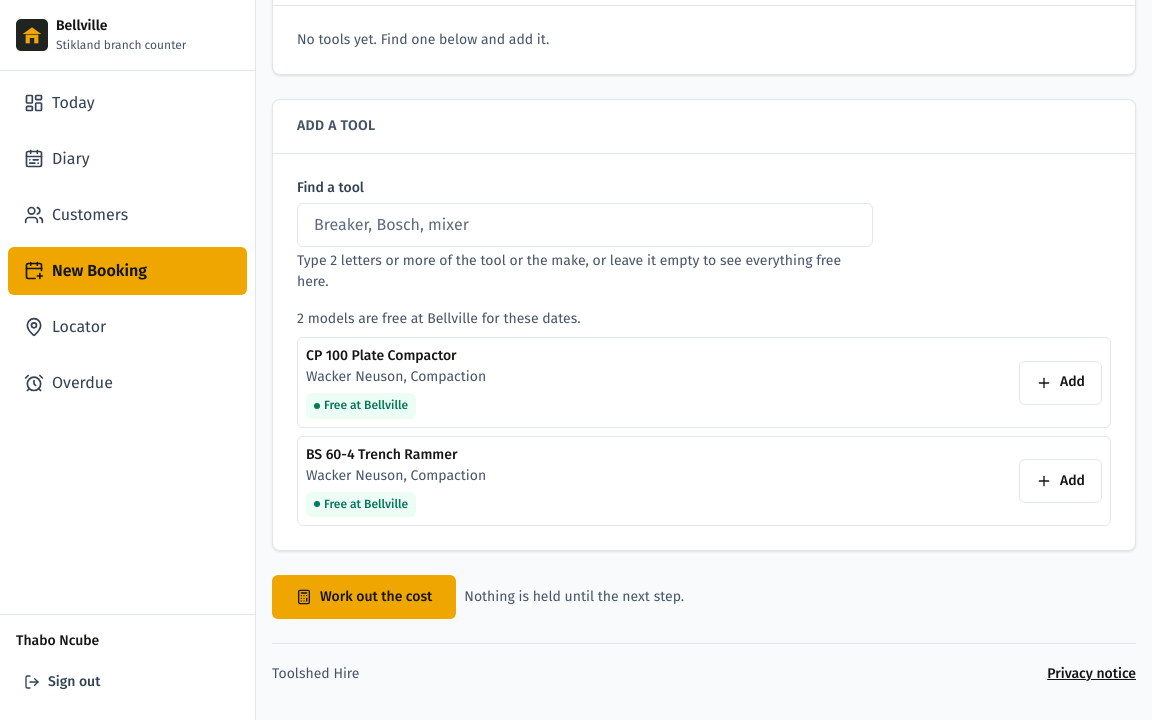
Scenario: choosing the dates and the tools › holds back a booking with no tools, and says so under the list
(page scrolled)
Click the button "Work out the cost" at (364,597), box [272, 575, 456, 619]
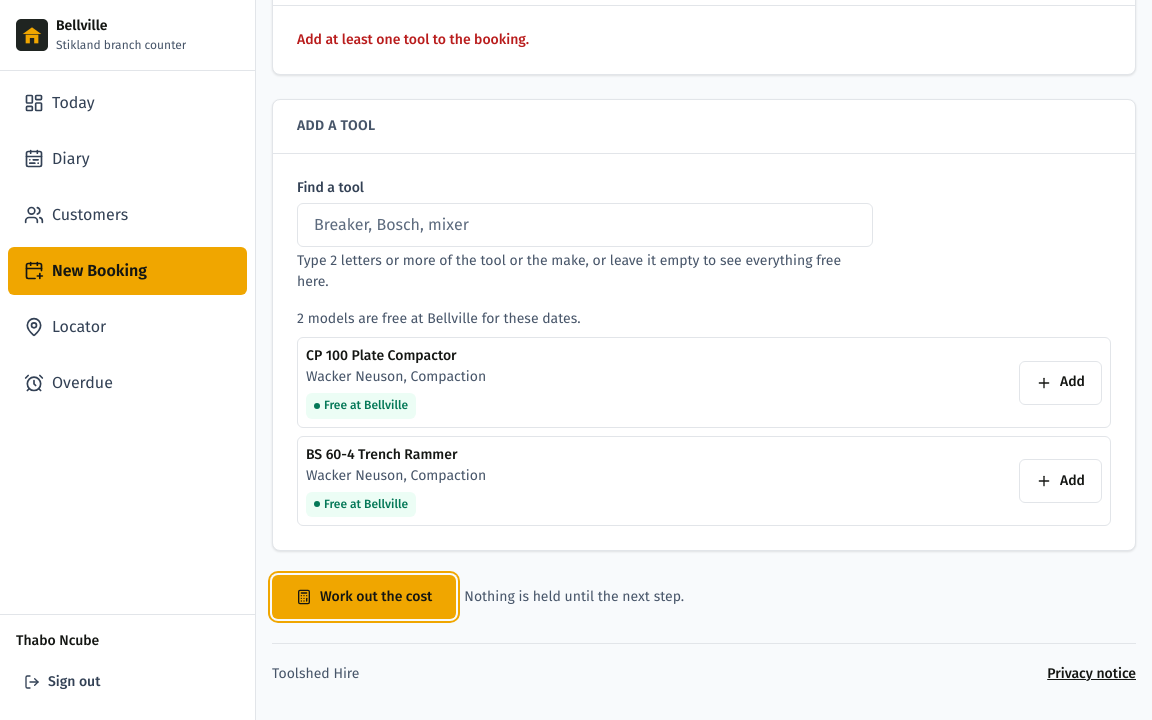
Now the text "Add at least one tool to the booking." is shown, box [297, 31, 529, 48]
